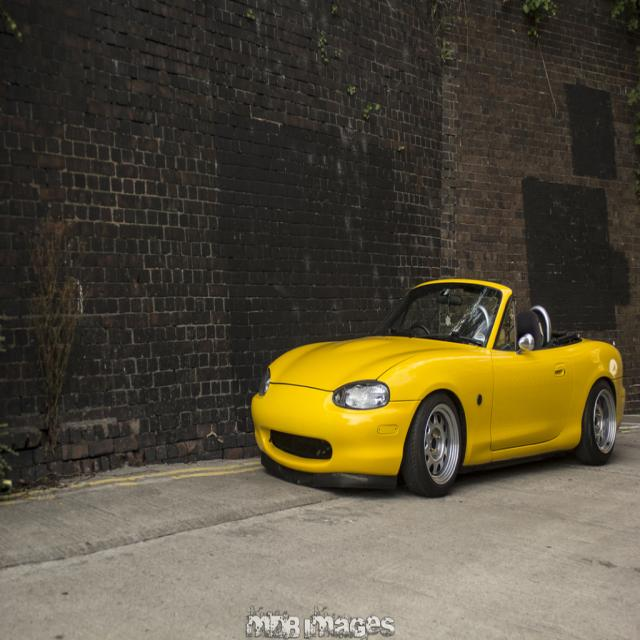car: (248, 273, 624, 495)
